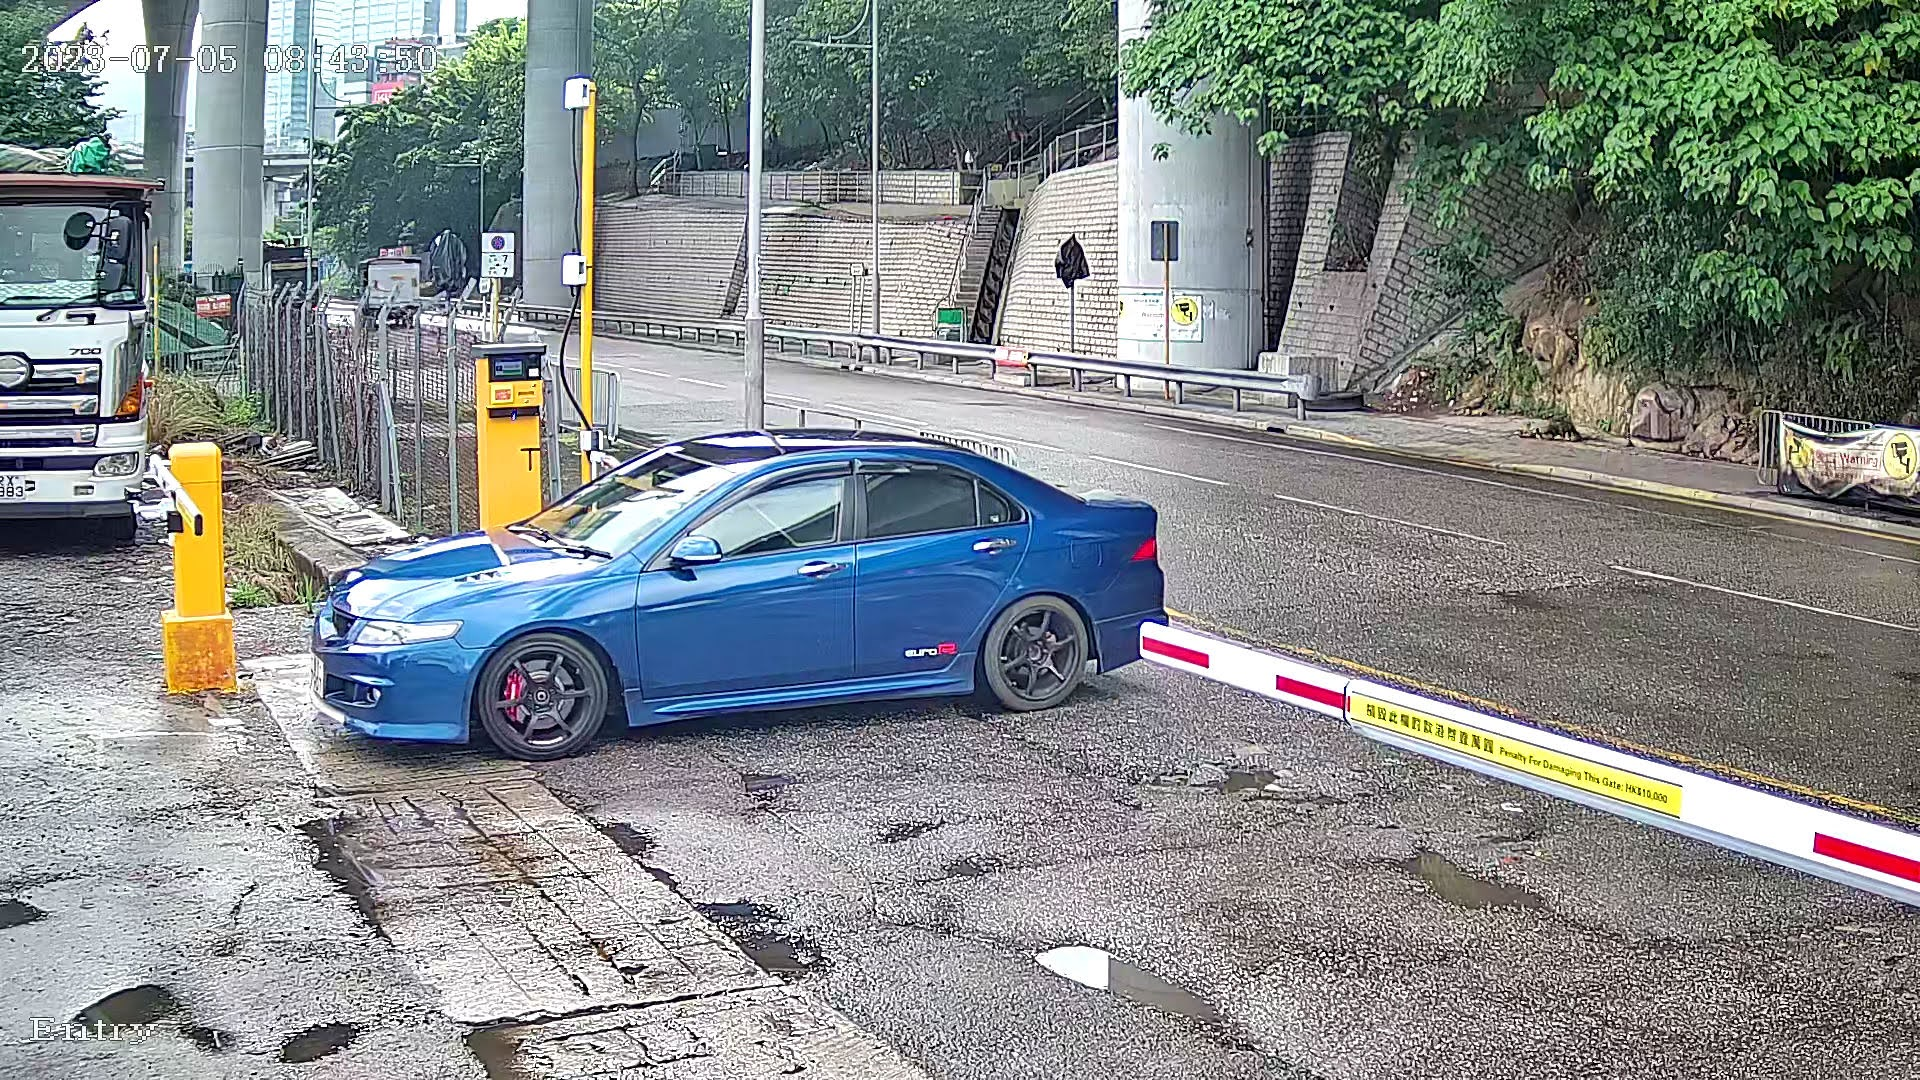privatecar: (272, 380, 1178, 804)
